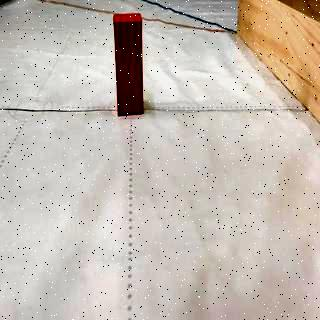redbox: (113, 12, 146, 116)
